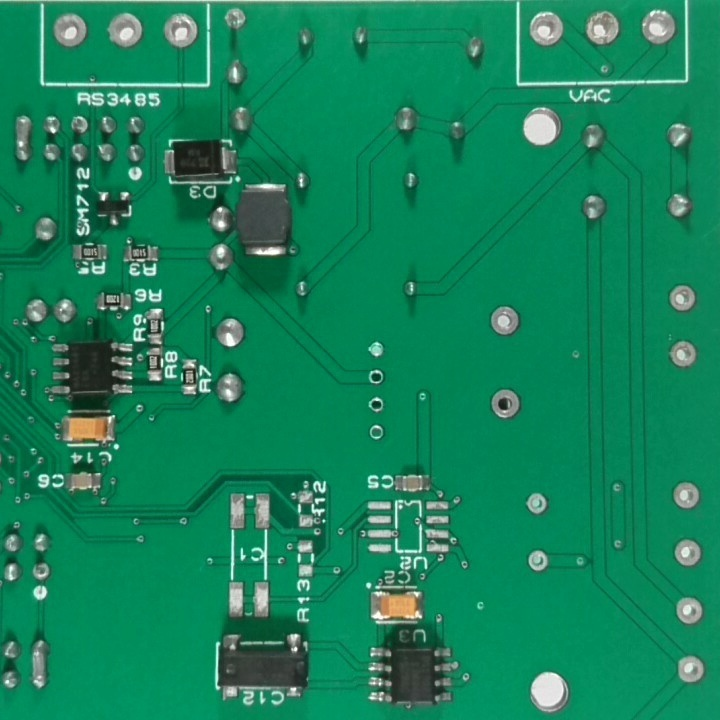F: (521, 6, 568, 53), (159, 10, 207, 52), (104, 10, 150, 51), (48, 9, 90, 52), (581, 9, 624, 50), (639, 5, 679, 46), (667, 532, 707, 573), (487, 384, 524, 427), (670, 589, 707, 630), (673, 649, 709, 689), (487, 303, 524, 338), (670, 480, 706, 515), (668, 338, 698, 375), (521, 487, 553, 520), (668, 286, 699, 320), (220, 5, 253, 34), (525, 546, 551, 580), (65, 112, 93, 140), (364, 335, 388, 365), (364, 364, 387, 395), (30, 559, 53, 586), (367, 393, 387, 417), (366, 421, 385, 445)
P: (26, 629, 53, 692), (10, 109, 36, 168)
